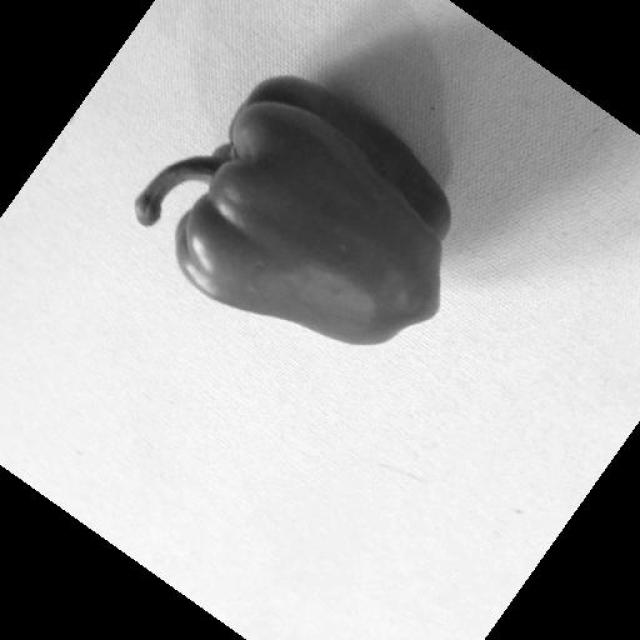Fresh_Capsicum: (136, 120, 463, 347)
